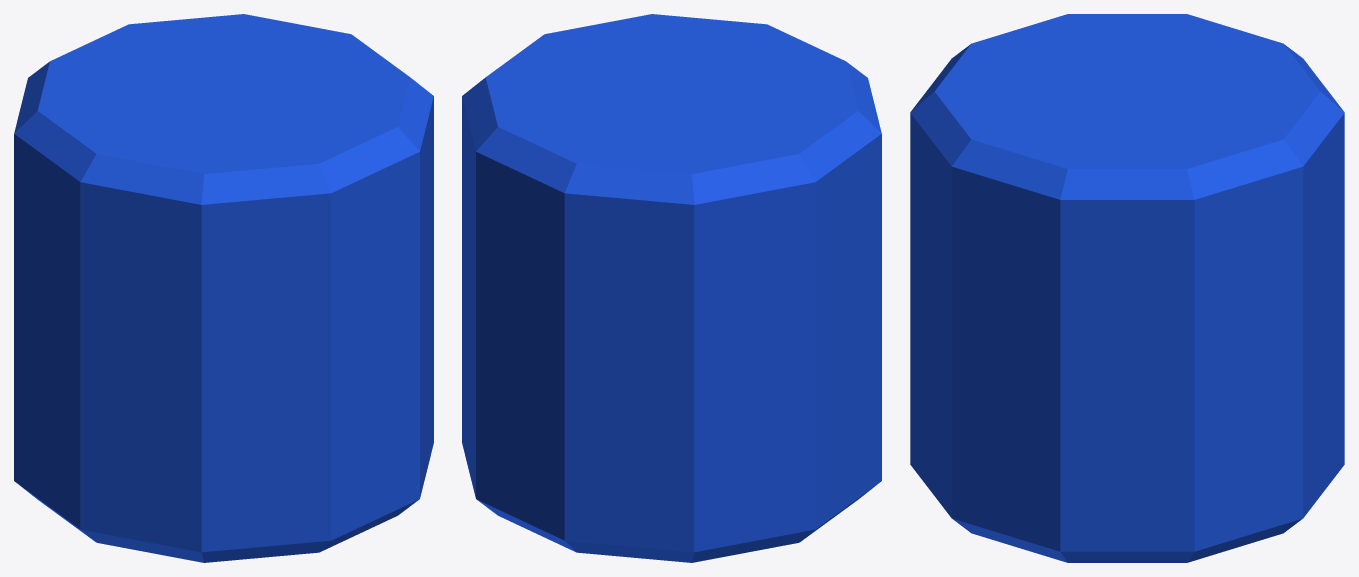
File: SM_Totem_001.fbx
The picture shows the model from 3 angles, left to right: view 1: azimuth 30°, elevation 25°; view 2: azimuth 150°, elevation 25°; view 3: azimuth 270°, elevation 25°; orthographic projection.
Parts seen in each view (by area): view 1: Totem_04; view 2: Totem_04; view 3: Totem_04.
Boxes of the visible parts, x1,y1,x2,y2 form: Totem_04: (14,14,433,562); Totem_04: (462,14,881,562); Totem_04: (910,14,1344,562).
Bounding box in the file's own units: 47.55 × 50 × 50.
